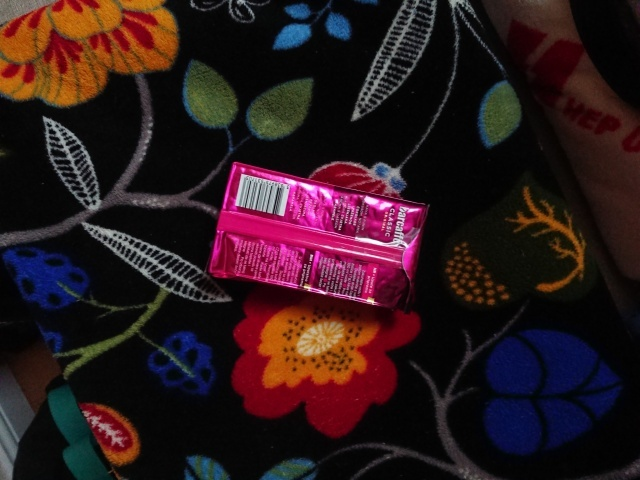Barcaffe Classic Original 225g: (205, 156, 434, 314)
